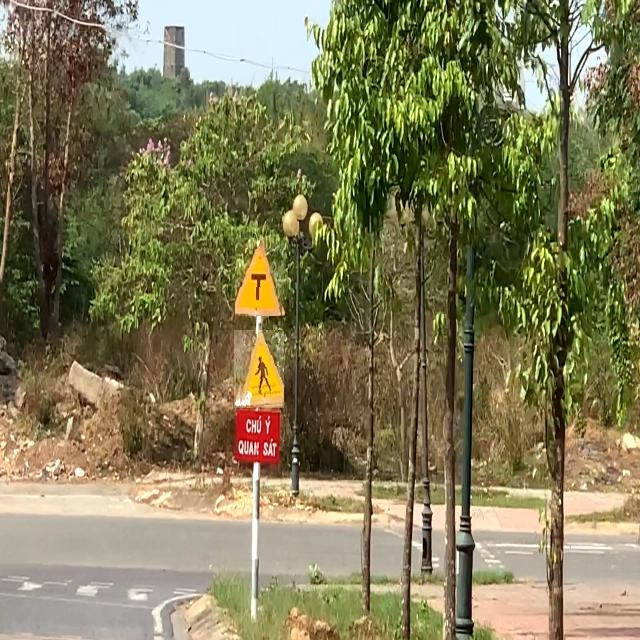bien_nguy_hiem: (235, 238, 286, 316), (234, 330, 284, 408)
